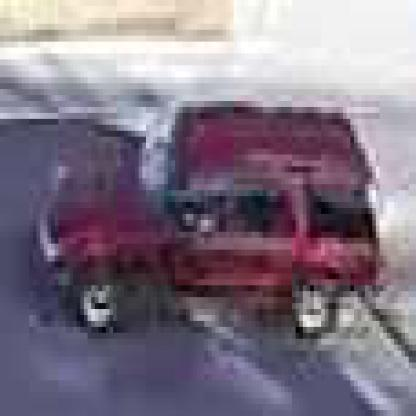car: (38, 114, 370, 346)
